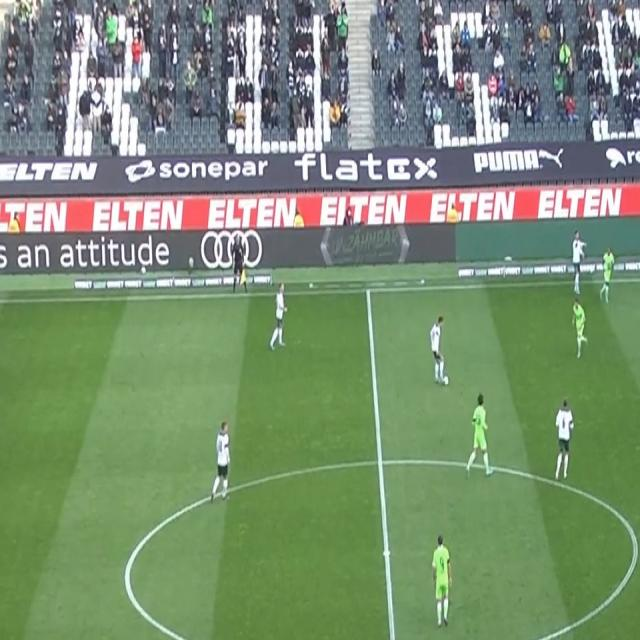ball: (442, 374, 450, 387)
